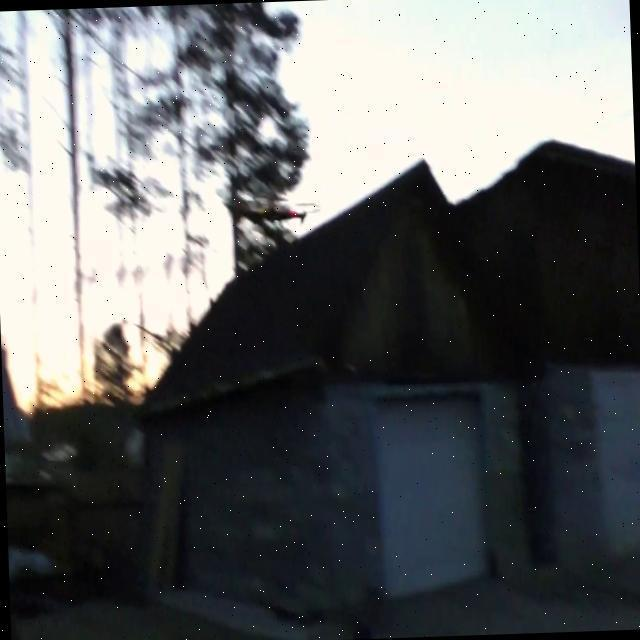Drons: (225, 188, 322, 233)
